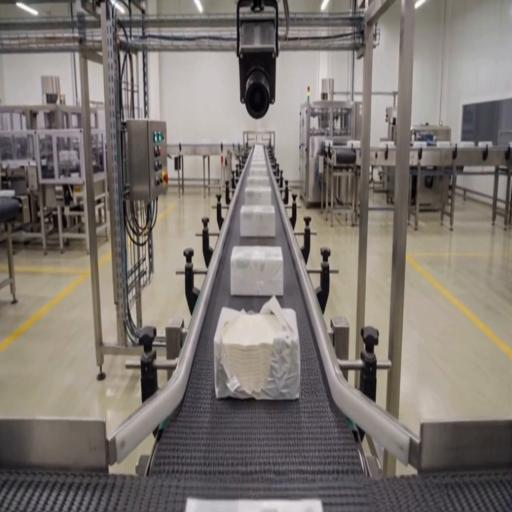defective: (214, 300, 300, 399)
good: (230, 245, 284, 298), (188, 494, 320, 511), (239, 204, 277, 239), (243, 186, 273, 207), (246, 155, 270, 174), (245, 172, 270, 189), (249, 145, 268, 158)
